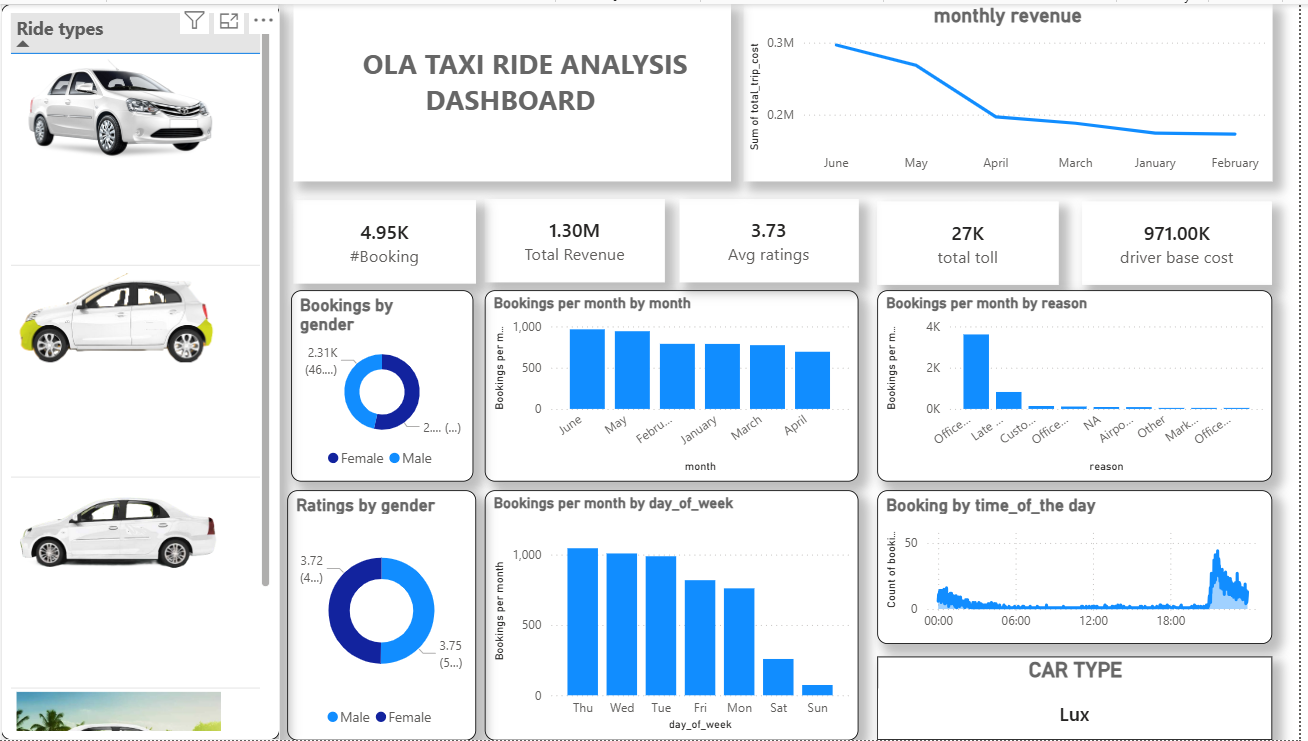

The dashboard page shown, as its layout file describes it:
{"tool":"powerbi","page":{"name":"Duplicate of idea 2","canvas":[1280,720],"ordinal":2},"visuals":[{"type":"cardVisual","fields":{"Data":["Sum(Data.total_trip_cost)"]},"box":[615.1,292.3,156.5,81.9],"z":0},{"type":"cardVisual","fields":{"Data":["Count(Data.booking id)"]},"box":[450,292.3,156.5,81.9],"z":1000},{"type":"cardVisual","fields":{"Data":["Sum(Data.toll)"]},"box":[951.4,292.3,156.5,81.9],"z":2000},{"type":"cardVisual","fields":{"Data":["Sum(Data.driver_base_cost)"]},"box":[1123.8,292.3,156.5,81.9],"z":3000},{"type":"columnChart","fields":{"Category":["Data.month"],"Y":["CountNonNull(Data.booking id)"]},"box":[440.2,393.8,330.2,150.4],"z":4000},{"type":"columnChart","fields":{"Y":["CountNonNull(Data.booking id)"],"Category":["Data.day_of_week"]},"box":[441.4,552.7,330.2,150.4],"z":5000},{"type":"cardVisual","fields":{"Data":["Avg(Data.ratings)"]},"box":[787.5,292.3,156.5,81.9],"z":6000},{"type":"columnChart","fields":{"Y":["CountNonNull(Data.booking id)"],"Category":["Data.reason"]},"box":[778.9,392.5,328.9,150.4],"z":7000},{"type":"areaChart","title":" Booking by time_of_the day","fields":{"Category":["Data.time_of_day"],"Y":["Count(Data.booking id)"]},"box":[778.9,552.7,330.2,149.2],"z":8000},{"type":"donutChart","title":"Bookings by gender","fields":{"Category":["Data.gender"],"Y":["CountNonNull(Data.booking id)"]},"box":[1112.8,392.5,167.5,149.2],"z":9000},{"type":"donutChart","title":"Ratings by gender","fields":{"Category":["Data.gender"],"Y":["Avg(Data.ratings)"]},"box":[1112.8,552.7,167.5,149.2],"z":10000},{"type":"slicer","title":"Ride types","fields":{"Values":["cars.images"]},"box":[0,0,1280.3,173.6],"z":12000}]}

Visuals, with their boxes on the page's 1280x720 design canvas (x1, y1, x2, y2). These are canvas units, not pixel positions in the 1308x741 screenshot, which may show the page scaled, cropped or inside an application window:
cardVisual - Sum(Data.total_trip_cost): bbox=(615, 292, 772, 374)
cardVisual - Count(Data.booking id): bbox=(450, 292, 606, 374)
cardVisual - Sum(Data.toll): bbox=(951, 292, 1108, 374)
cardVisual - Sum(Data.driver_base_cost): bbox=(1124, 292, 1280, 374)
columnChart - Data.month x CountNonNull(Data.booking id): bbox=(440, 394, 770, 544)
columnChart - CountNonNull(Data.booking id) x Data.day_of_week: bbox=(441, 553, 772, 703)
cardVisual - Avg(Data.ratings): bbox=(788, 292, 944, 374)
columnChart - CountNonNull(Data.booking id) x Data.reason: bbox=(779, 392, 1108, 543)
" Booking by time_of_the day" areaChart: bbox=(779, 553, 1109, 702)
"Bookings by gender" donutChart: bbox=(1113, 392, 1280, 542)
"Ratings by gender" donutChart: bbox=(1113, 553, 1280, 702)
"Ride types" slicer: bbox=(0, 0, 1280, 174)
